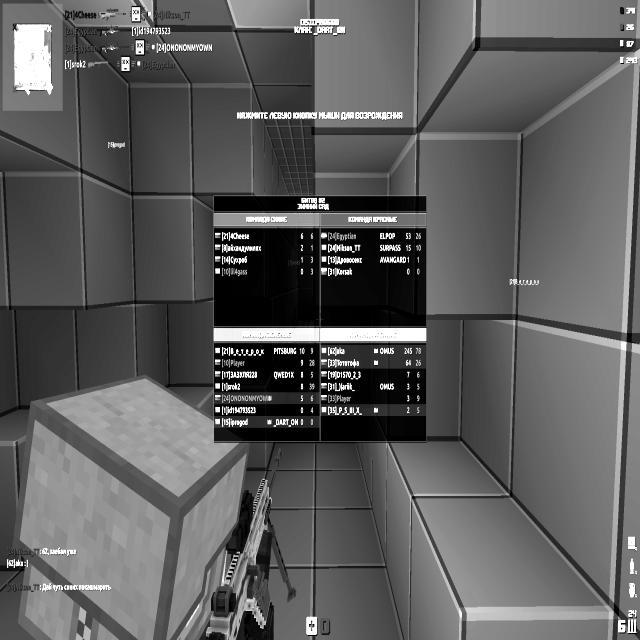Head: (8, 374, 251, 639)
Player: (7, 357, 270, 638)
